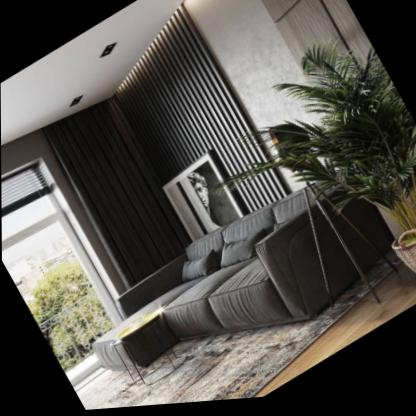Wall Panel: (112, 0, 398, 198)
Window: (1, 190, 123, 384)
